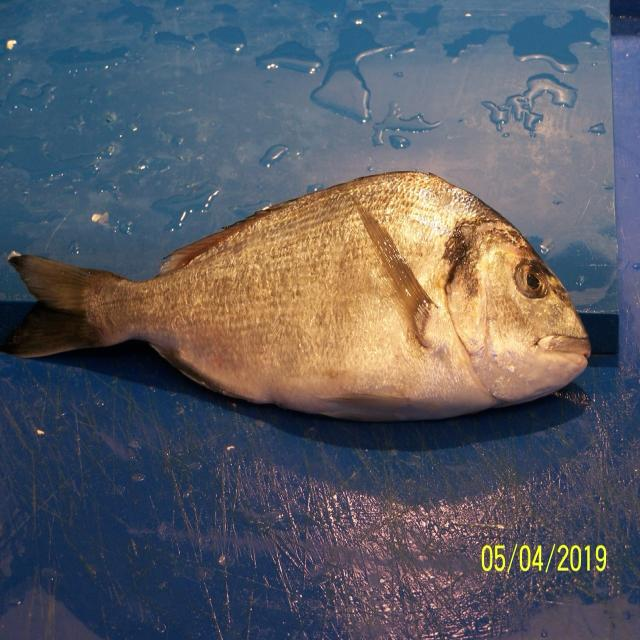Gilt-Head-Bream-c-ipura-: (0, 172, 592, 424)
